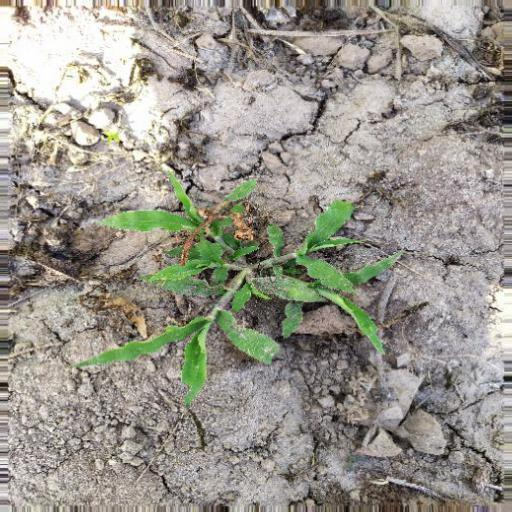weed: (73, 163, 424, 407)
